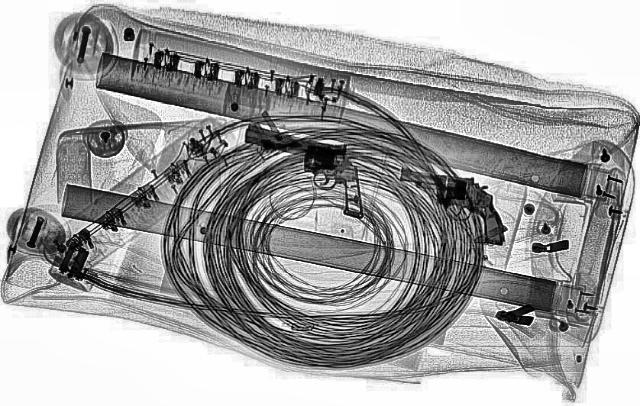Gun: (216, 123, 394, 217), (375, 170, 527, 244)
